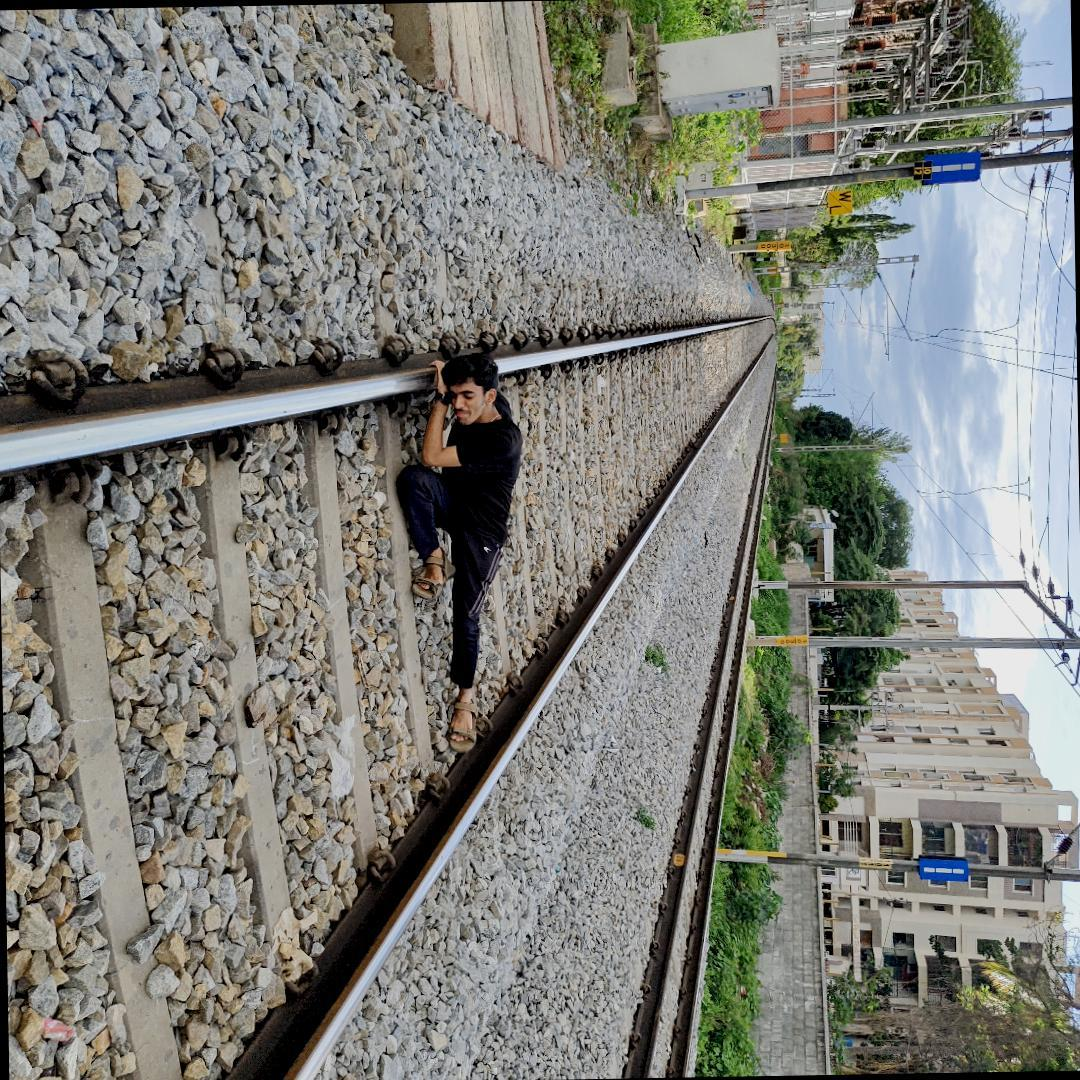sleeping: (388, 338, 534, 756)
